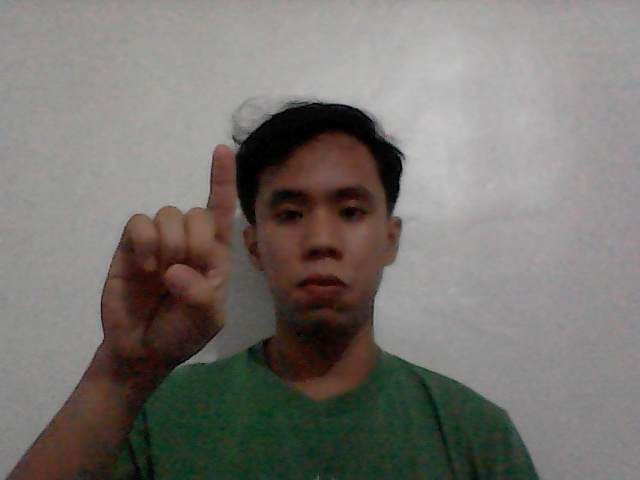D: (75, 131, 270, 395)
